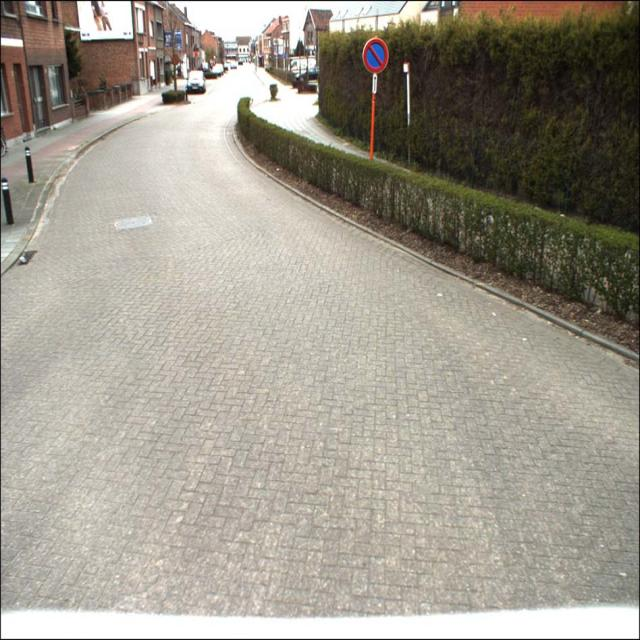parkyasak: (362, 38, 388, 73)
